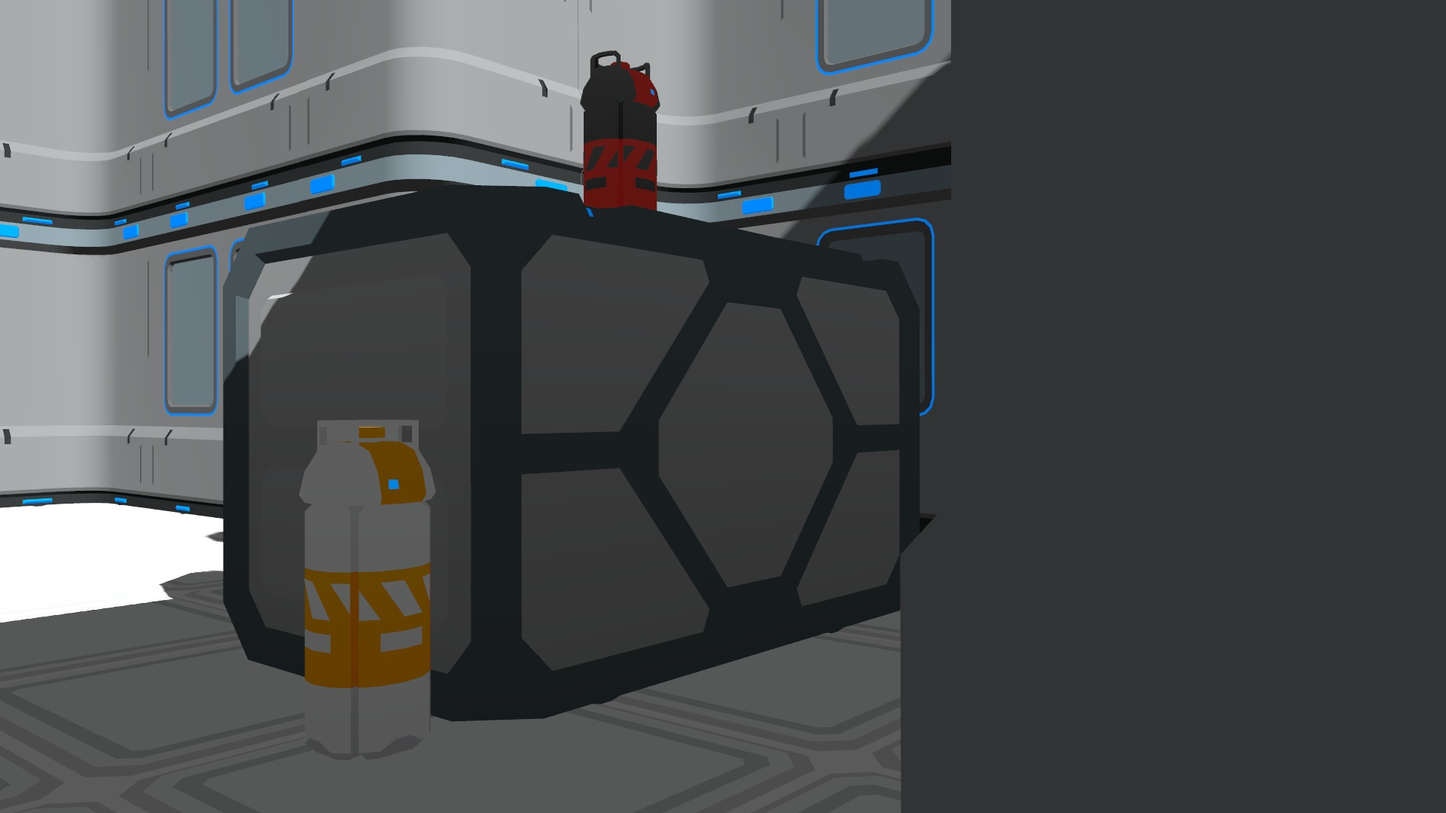red_barrel: (577, 46, 662, 221)
yellow_barrel: (296, 407, 434, 766)
